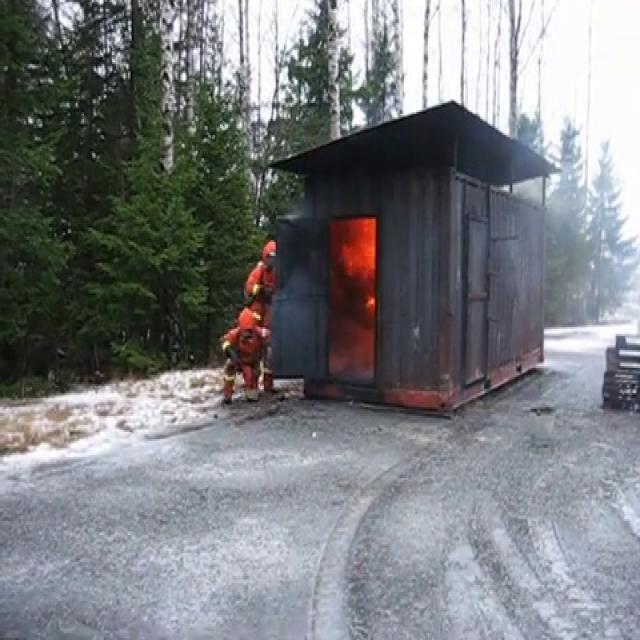Smoke: (525, 1, 640, 374)
